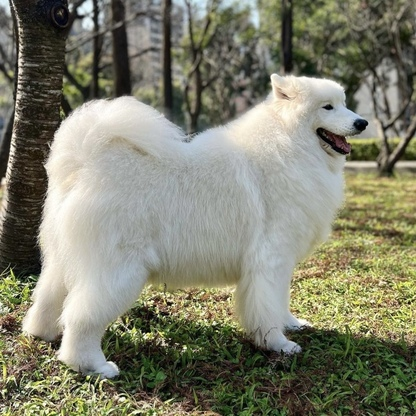samoyed: (17, 69, 372, 385)
